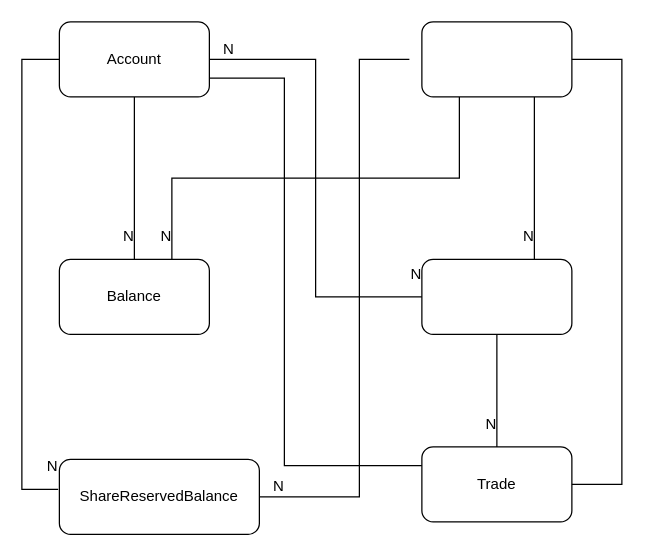
Some shapes in this 645 by 556 pixel diagram are drawn without their labels. The shapes that lost their labels are listed below. From the top down, each one's box as (x1, y1, x2, y2) in pixels, then its label:
(421, 21, 572, 97): Token
(421, 258, 572, 334): Order
